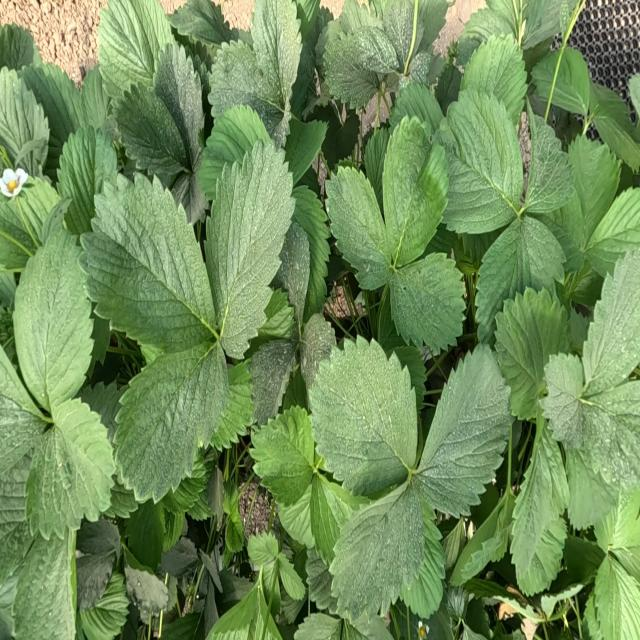Flowers: (0, 169, 27, 198)
Leaves: (81, 174, 214, 349), (205, 143, 295, 352), (114, 344, 227, 501), (310, 340, 417, 495), (421, 347, 513, 515), (13, 234, 94, 411), (435, 88, 523, 233), (330, 484, 423, 621), (0, 349, 46, 622), (25, 399, 114, 538), (476, 215, 565, 340), (383, 117, 447, 267), (511, 425, 567, 595), (496, 287, 567, 419), (583, 252, 639, 397), (326, 167, 392, 289), (390, 252, 466, 351), (276, 186, 330, 324), (99, 0, 171, 99), (116, 84, 186, 183), (13, 529, 75, 638), (210, 40, 279, 135), (570, 0, 639, 93), (250, 407, 314, 505), (57, 125, 115, 232), (581, 382, 639, 488), (154, 41, 203, 165), (1, 178, 65, 270), (461, 33, 527, 121), (0, 348, 46, 474), (569, 136, 621, 247), (251, 1, 302, 112), (452, 492, 513, 584), (399, 504, 445, 618), (0, 68, 49, 175), (309, 472, 365, 565), (525, 109, 574, 212), (20, 61, 81, 142), (585, 187, 639, 275), (324, 31, 381, 110), (565, 447, 619, 530), (591, 83, 639, 171), (76, 518, 119, 613), (248, 340, 296, 425), (540, 353, 583, 447), (594, 552, 639, 639), (539, 191, 585, 270), (212, 362, 253, 448), (307, 104, 360, 170), (382, 0, 427, 76), (457, 7, 512, 66), (80, 382, 127, 451), (82, 572, 129, 639), (389, 81, 443, 138), (168, 0, 232, 44), (382, 344, 426, 408), (207, 586, 259, 639), (521, 0, 579, 47), (596, 488, 639, 551), (299, 313, 335, 387), (172, 151, 208, 224), (124, 560, 167, 621), (552, 47, 591, 114), (285, 120, 327, 182), (126, 501, 163, 569), (80, 67, 114, 141), (347, 25, 399, 73), (278, 485, 314, 548), (365, 129, 390, 210), (256, 289, 295, 340), (306, 548, 336, 610), (1, 24, 41, 70), (104, 465, 138, 518), (172, 461, 207, 511), (223, 481, 244, 558), (275, 553, 305, 600), (531, 49, 559, 99), (435, 63, 462, 114), (162, 537, 197, 575), (294, 613, 341, 639), (247, 532, 278, 571), (204, 575, 219, 638), (525, 3, 529, 35)
Strawberries: (418, 622, 428, 639)
